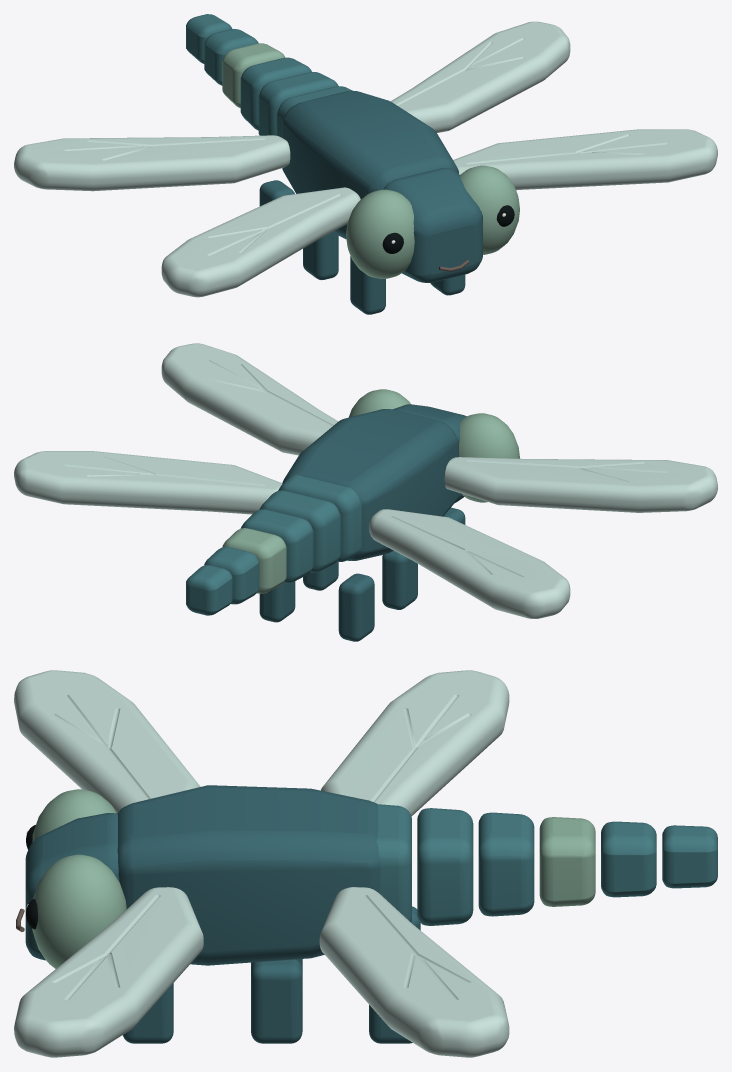
File: dragonfly.glb
The picture shows the model from 3 angles, top to bottom: view 1: azimuth 30°, elevation 25°; view 2: azimuth 150°, elevation 25°; view 3: azimuth 270°, elevation 25°; orthographic projection. The views are drawn at different scales.
Parts seen in each view (by area): view 1: Sculpted thorax, Broad ceramic wing rear, Broad ceramic wing front.001, Broad ceramic wing front, Broad ceramic wing rear.001, Small squared face, Large sage eye lobe, Large sage eye lobe.001, Broad abdomen segment 01, Broad abdomen segment 02, Broad abdomen segment 03, Broad abdomen segment 04 (+6 smaller); view 2: Sculpted thorax, Broad ceramic wing front, Broad ceramic wing rear.001, Broad ceramic wing rear, Broad ceramic wing front.001, Broad abdomen segment 01, Broad abdomen segment 02, Broad abdomen segment 00, Large sage eye lobe, Tucked foot.006, Broad abdomen segment 03, Broad abdomen segment 05 (+6 smaller); view 3: Sculpted thorax, Broad ceramic wing rear.001, Broad ceramic wing front.001, Broad ceramic wing rear, Broad ceramic wing front, Large sage eye lobe.001, Broad abdomen segment 01, Broad abdomen segment 02, Broad abdomen segment 03, Small squared face, Tucked foot.008, Broad abdomen segment 04 (+5 smaller).
Boxes of the visible parts, x1,y1,x2,y2 form: Sculpted thorax: [282, 91, 458, 239]; Broad ceramic wing rear: [14, 135, 290, 191]; Broad ceramic wing front.001: [453, 129, 717, 190]; Broad ceramic wing front: [161, 187, 360, 297]; Broad ceramic wing rear.001: [390, 21, 570, 132]; Small squared face: [383, 168, 482, 282]; Large sage eye lobe: [346, 189, 414, 278]; Large sage eye lobe.001: [459, 165, 519, 254]; Broad abdomen segment 01: [258, 72, 338, 135]; Broad abdomen segment 02: [240, 57, 311, 130]; Broad abdomen segment 03: [222, 43, 285, 108]; Broad abdomen segment 04: [204, 29, 258, 85]; Sculpted thorax: [282, 409, 458, 560]; Broad ceramic wing front: [444, 457, 717, 512]; Broad ceramic wing rear.001: [14, 451, 282, 514]; Broad ceramic wing rear: [369, 509, 570, 618]; Broad ceramic wing front.001: [161, 343, 338, 455]; Broad abdomen segment 01: [259, 490, 340, 572]; Broad abdomen segment 02: [240, 509, 313, 583]; Broad abdomen segment 00: [278, 474, 361, 561]; Large sage eye lobe: [459, 413, 519, 502]; Tucked foot.006: [338, 573, 374, 641]; Broad abdomen segment 03: [222, 528, 286, 593]; Broad abdomen segment 05: [186, 565, 232, 615]; Sculpted thorax: [117, 785, 380, 965]; Broad ceramic wing rear.001: [319, 887, 509, 1057]; Broad ceramic wing front.001: [14, 887, 203, 1057]; Broad ceramic wing rear: [320, 670, 509, 816]; Broad ceramic wing front: [14, 670, 200, 813]; Large sage eye lobe.001: [32, 854, 126, 968]; Broad abdomen segment 01: [417, 808, 473, 925]; Broad abdomen segment 02: [478, 812, 534, 916]; Broad abdomen segment 03: [539, 817, 595, 906]; Small squared face: [25, 813, 119, 960]; Tucked foot.008: [251, 959, 302, 1043]; Broad abdomen segment 04: [601, 821, 656, 897].
Bounding box in the file's own units: 2.88 × 0.756 × 2.36.
